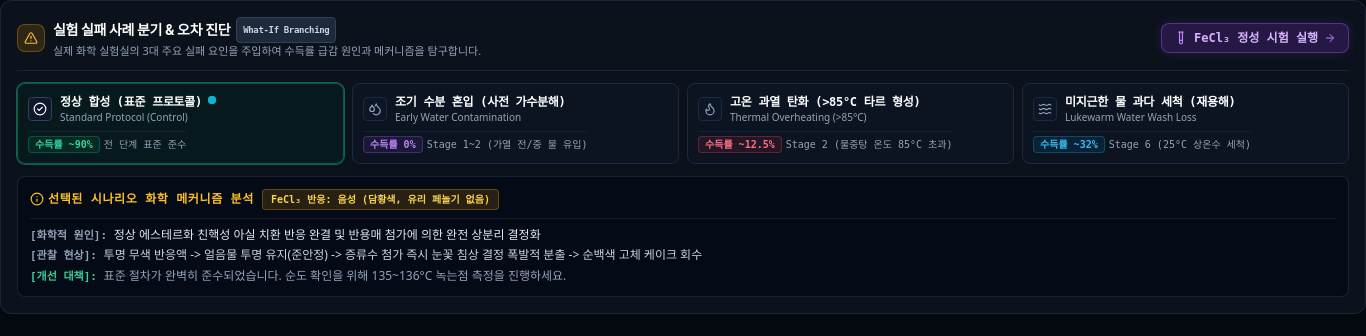
Milestone 4: Failure Branching Controls, FeCl3 Test Modal & Audio-Visual HUD › 2. FailureScenarioControl Component › switches failure mode to WARM_WASH and displays lukewarm dissolution info
Click the button with test id "failure-btn-WARM_WASH" at (1186, 123), box [1022,82,1349,164]
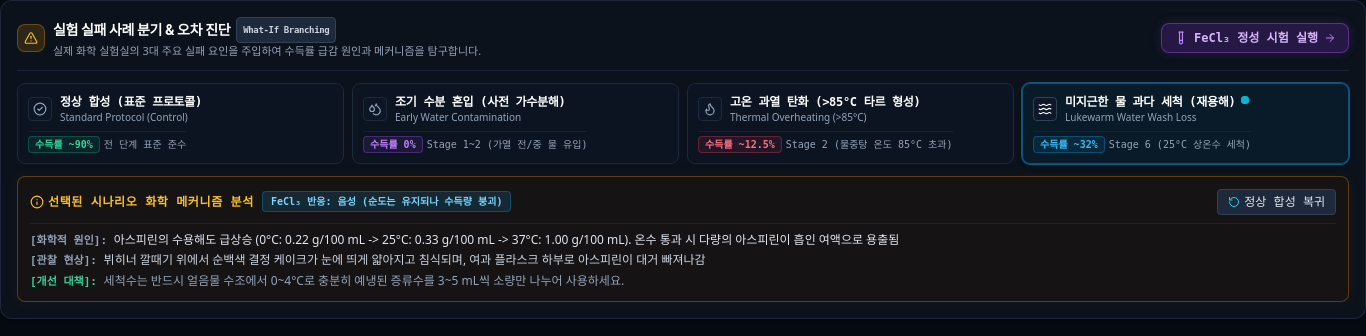
Expected: the text "미지근한 물 과다 세척 (재용해)" is shown, [1065,94,1235,110]
Now the text "아스피린의 수용해도 급상승" is shown, box [114,230,899,248]
